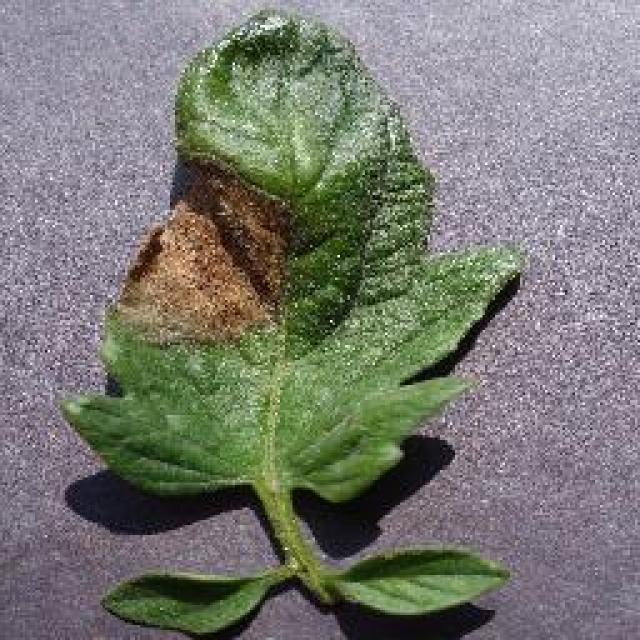Tomato Late Blight: (82, 115, 465, 368)
